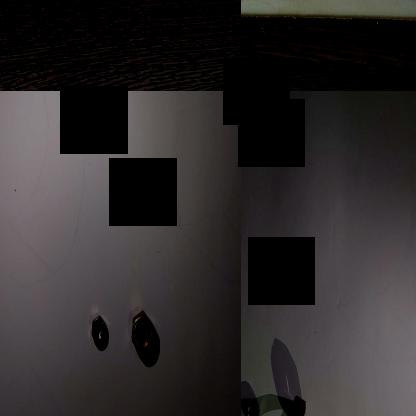NUTS: (129, 309, 155, 359), (285, 389, 309, 416), (88, 314, 106, 346), (241, 391, 264, 416)
